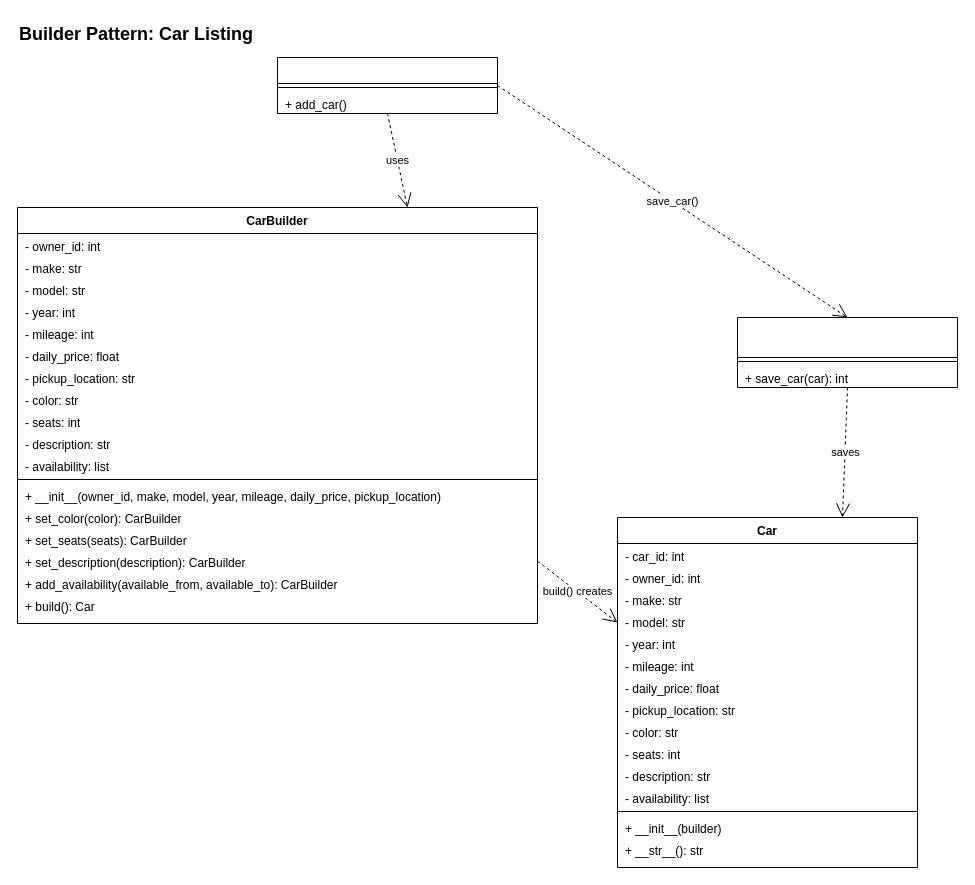
Some shapes in this 975 by 885 pixel diagram are drawn without their labels. The shapes that lost their labels are listed below. From the top down, each one's box as (x1, y1, x2, y2) in pixels, then its label:
(276, 56, 498, 114): ListCarScreen
(736, 316, 958, 388): <<module>> car
